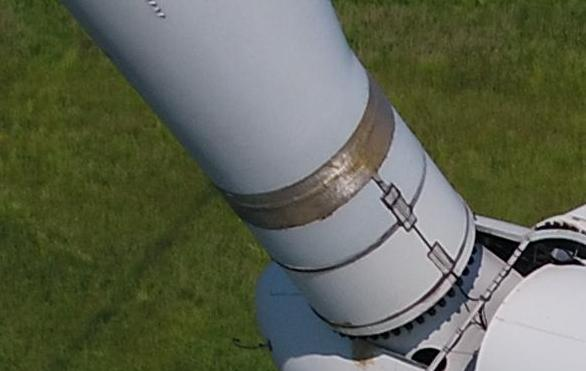damage: (351, 337, 379, 371), (330, 320, 353, 328)
